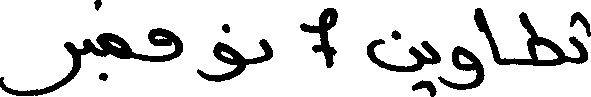7: (298, 5, 338, 68)
ا: (482, 9, 500, 68)
ب: (81, 36, 107, 80)
ت: (568, 10, 589, 64)
ر: (0, 39, 81, 95)
ط: (518, 9, 562, 66)
ف: (136, 18, 182, 62)
م: (96, 33, 129, 63)
ن: (367, 28, 421, 76), (220, 24, 272, 63)
و: (193, 40, 247, 82), (439, 43, 484, 90)
ي: (417, 38, 440, 96)
